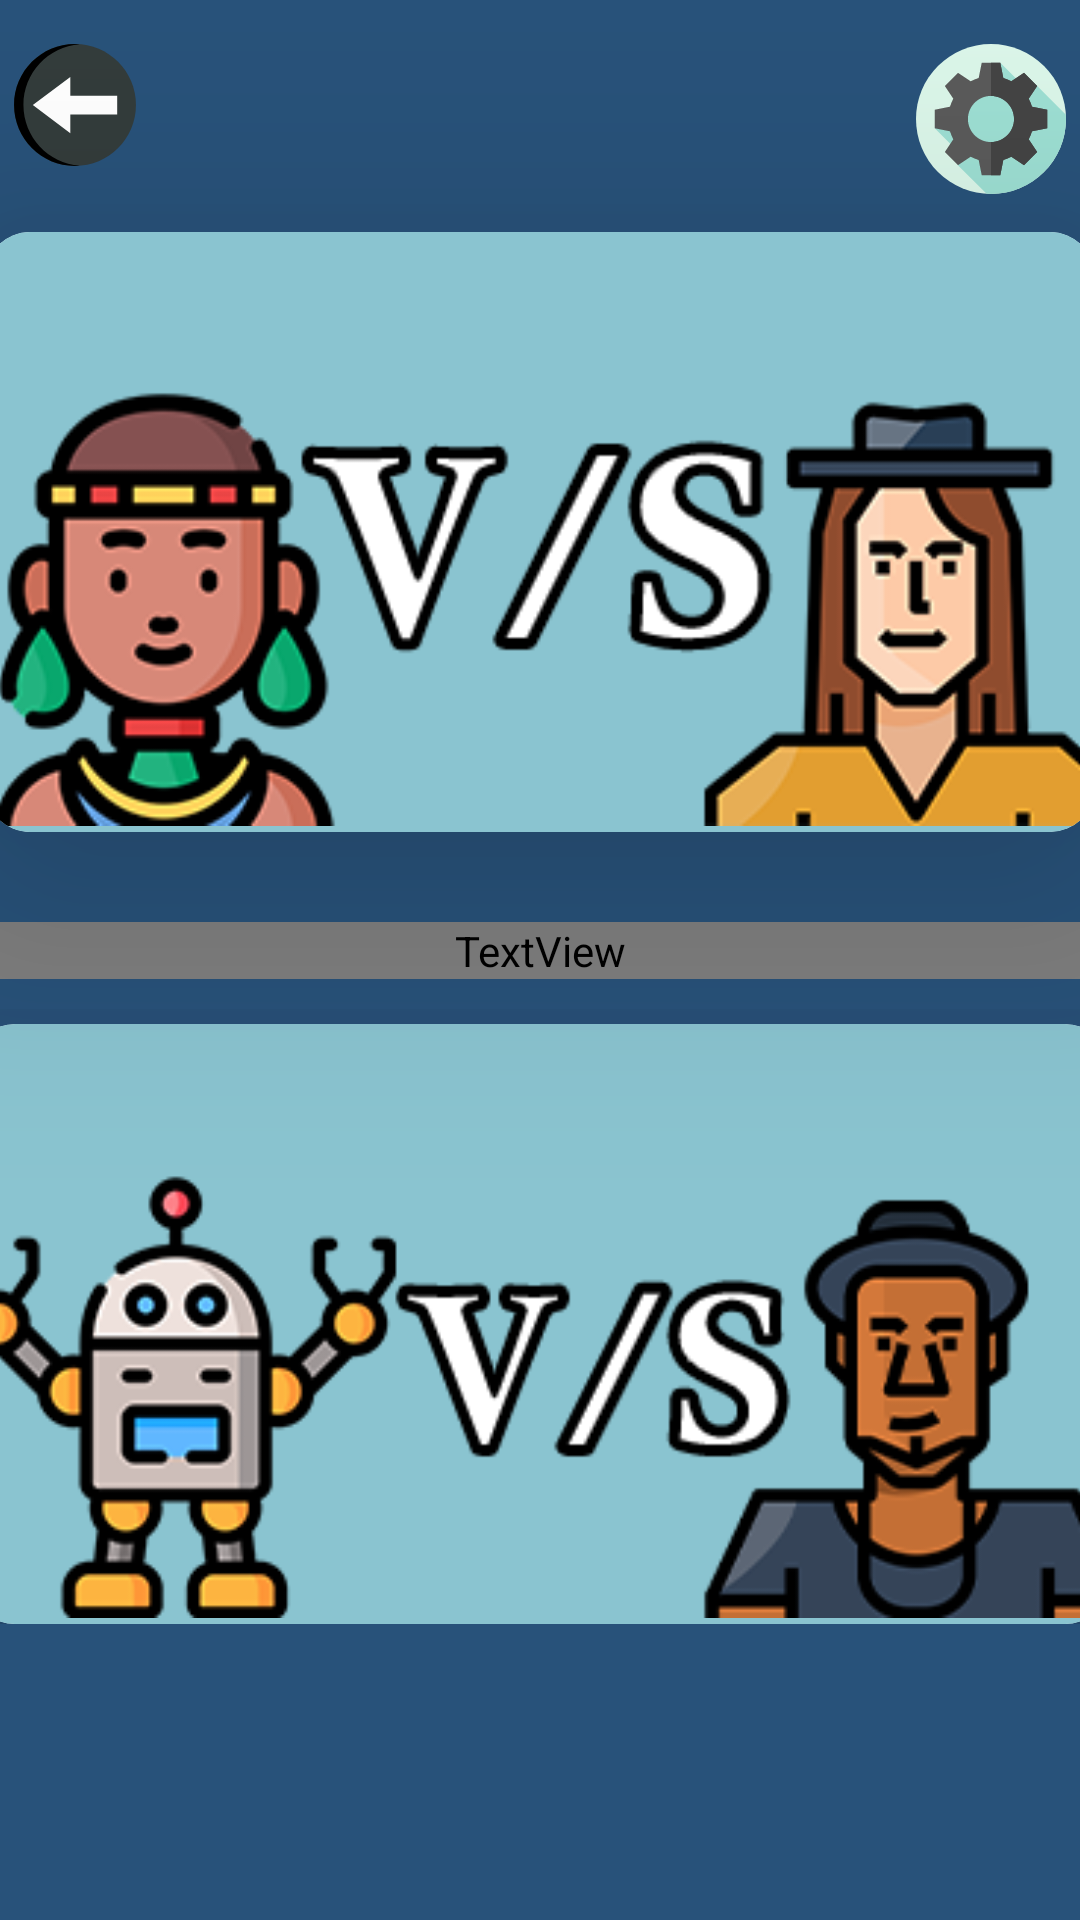

Where to tap for icons on this 1080*1920 app screen, as (x=x, y=y):
customusersettings: (x=991, y=119)
